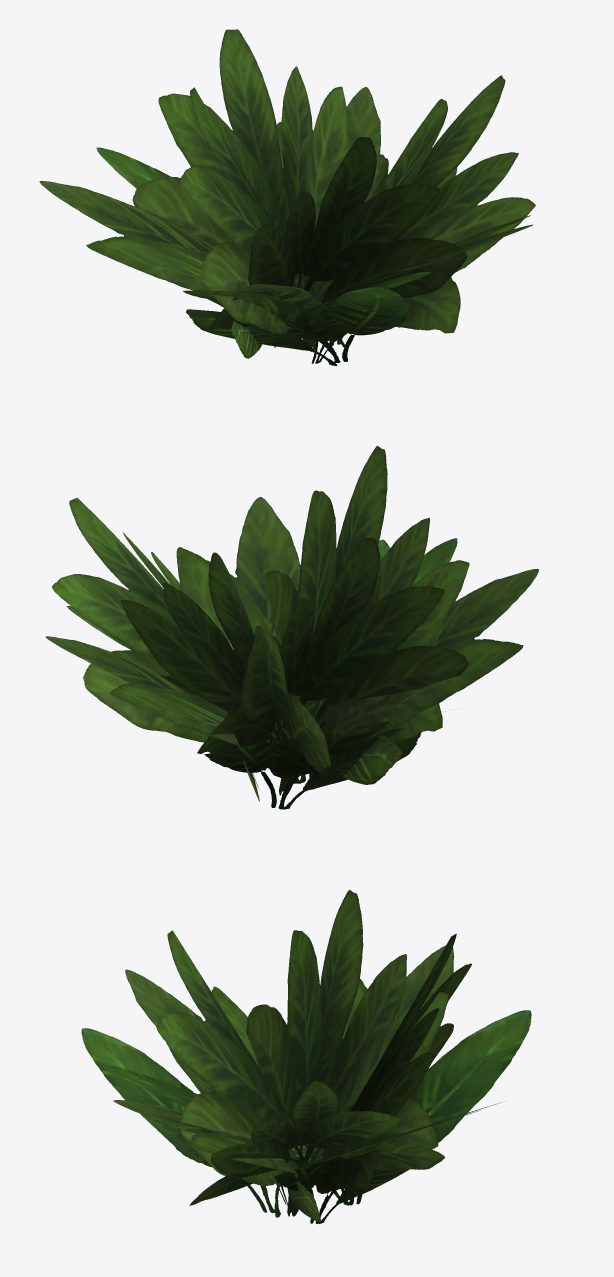
The model's file is environment_grass_guanmu_002_a.FBX.
3 views of the same model, one above another, from view 1: azimuth 30°, elevation 25°; view 2: azimuth 150°, elevation 25°; view 3: azimuth 270°, elevation 25° (orthographic). The views are drawn at different scales.
Parts seen in each view (by area): view 1: environment_grass_guanmu_002_a; view 2: environment_grass_guanmu_002_a; view 3: environment_grass_guanmu_002_a.
Part boxes in pixels (x1=…): environment_grass_guanmu_002_a: x1=39, y1=29, x2=535, y2=365; environment_grass_guanmu_002_a: x1=45, y1=445, x2=538, y2=809; environment_grass_guanmu_002_a: x1=81, y1=890, x2=531, y2=1223.
Size of the model in its own units: 148 by 83.04 by 153.
1 material, 1 textured.
